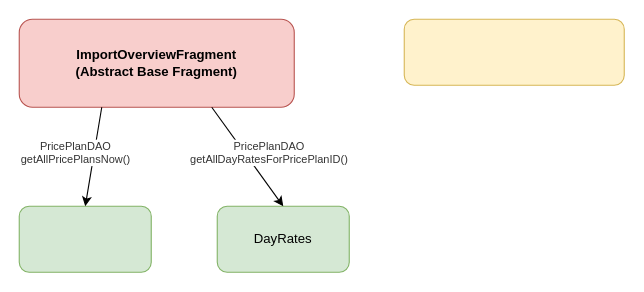
This 644x292 diagram has some shape labels left out. Here are the shapes that lost their labels. From the top down, the centre of each, then its label:
point 513,51: Note: Uses ToutcRepository directly (not via ComparisonUIViewModel)
point 84,238: PricePlans
